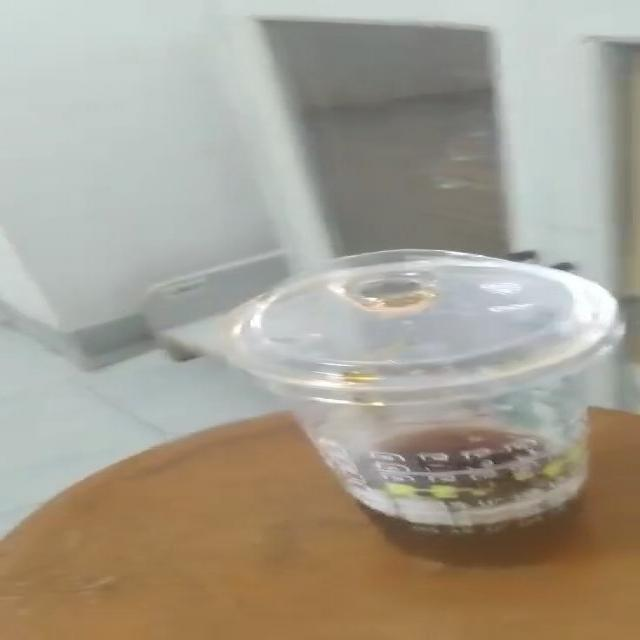cup: (289, 351, 615, 527)
